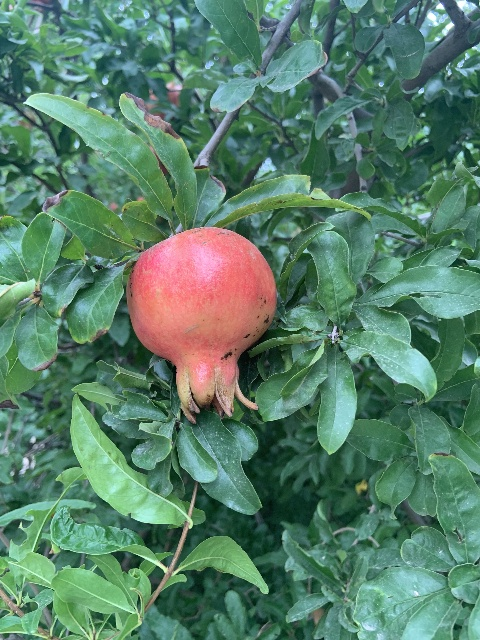ripe: (126, 227, 276, 423)
